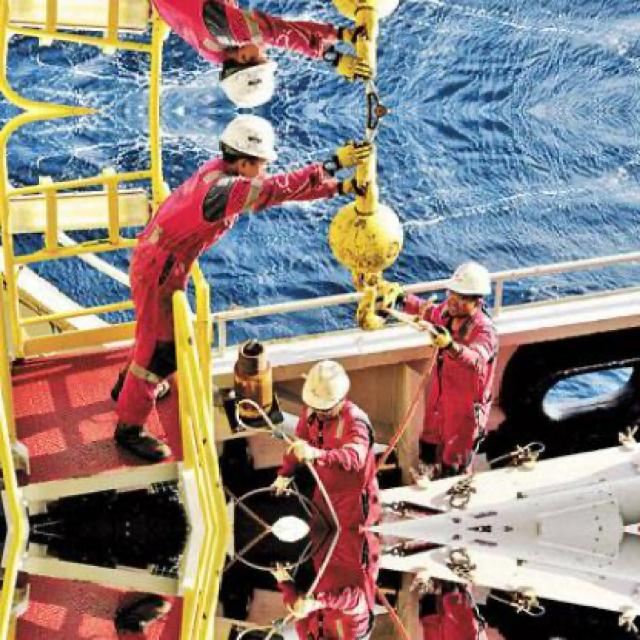helmet: (212, 114, 278, 182), (212, 40, 278, 108), (296, 356, 356, 421), (446, 256, 491, 318)
